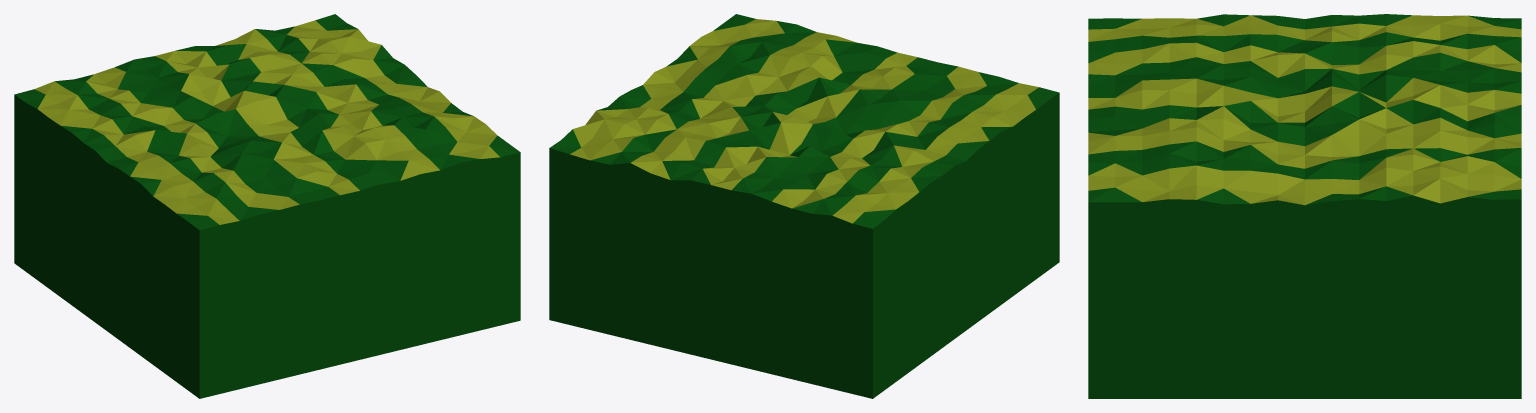
The model's file is Watermelon Block.fbx.
The picture shows the model from 3 angles, left to right: view 1: azimuth 30°, elevation 25°; view 2: azimuth 150°, elevation 25°; view 3: azimuth 270°, elevation 25°; orthographic projection. The views are drawn at different scales.
Visible parts, largest first — view 1: Watermelon; view 2: Watermelon; view 3: Watermelon.
Boxes of the visible parts, x1,y1,x2,y2 form: Watermelon: (14,14,520,398); Watermelon: (549,14,1059,398); Watermelon: (1088,14,1521,398).
Bounding box in the file's own units: 4543 × 2492 × 4543.
